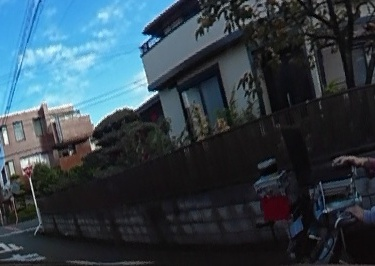person: (348, 35, 375, 266)
